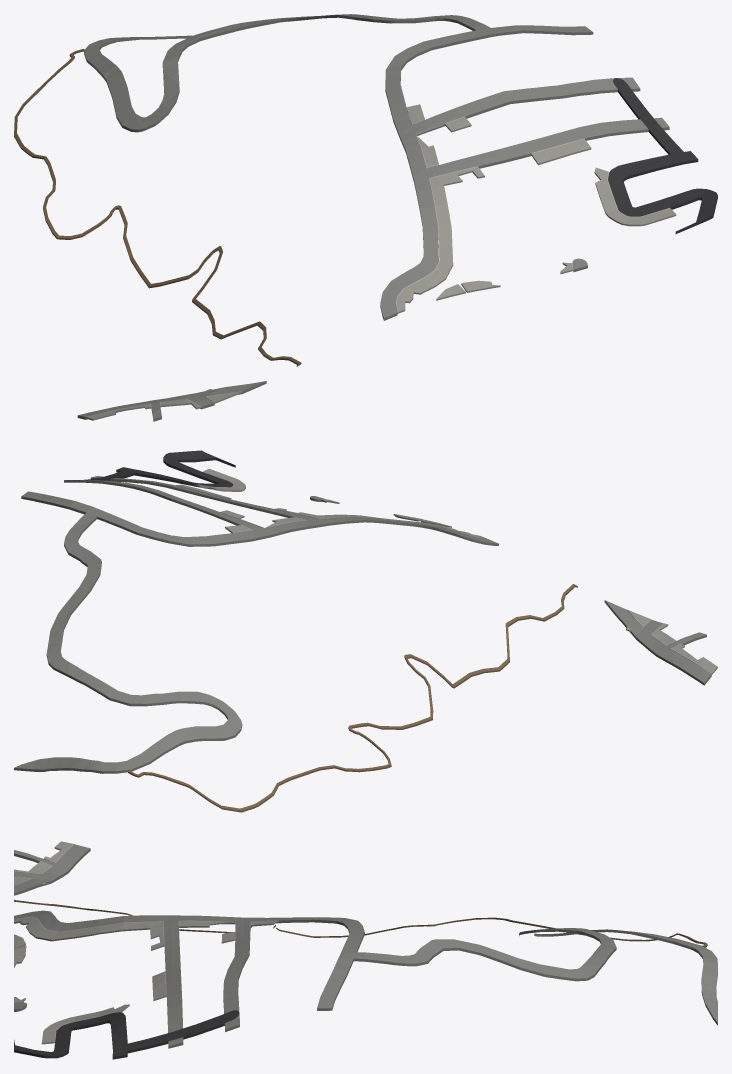
The picture shows the model from 3 angles, top to bottom: view 1: azimuth 30°, elevation 25°; view 2: azimuth 150°, elevation 25°; view 3: azimuth 270°, elevation 25°; orthographic projection. The views are drawn at different scales.
Size of the model in its own units: 293 by 69.9 by 291.
